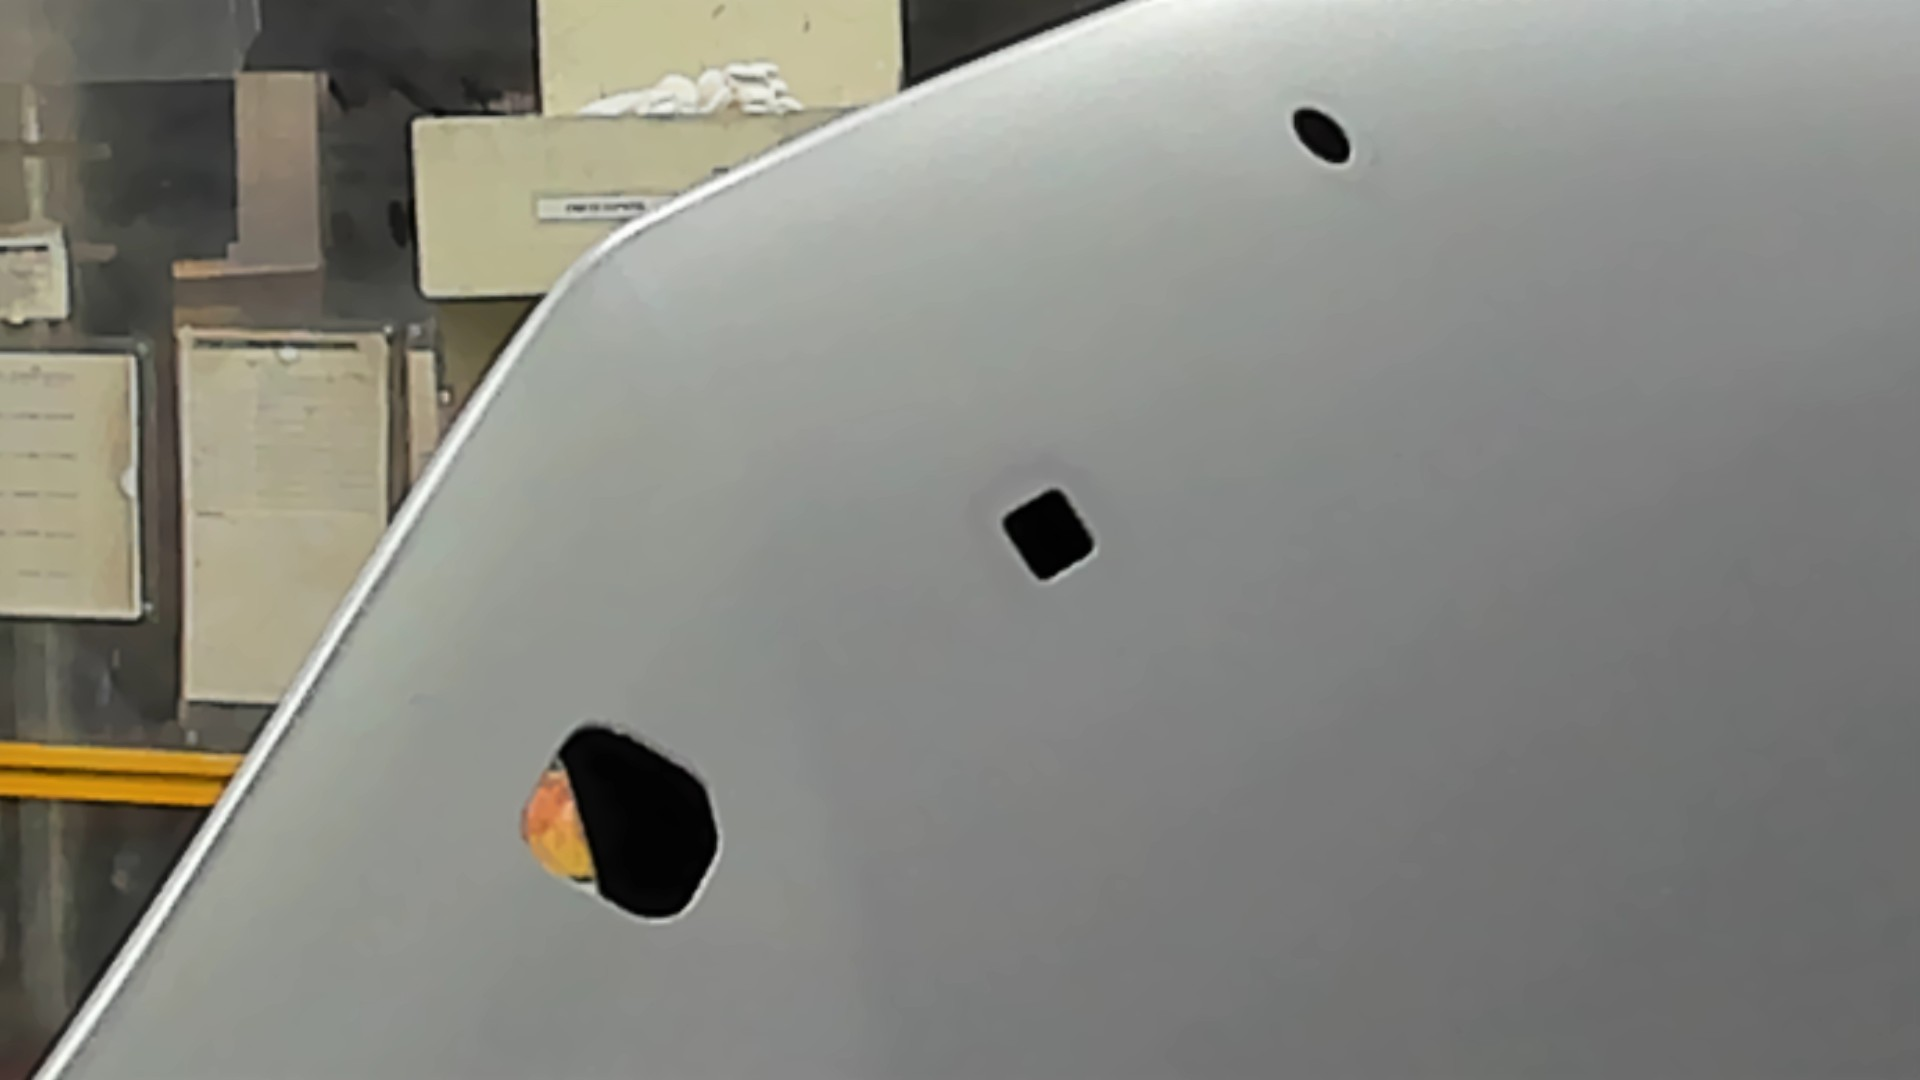chico: (1288, 102, 1356, 173)
grande: (510, 717, 728, 935)
mediano: (993, 483, 1101, 591)
